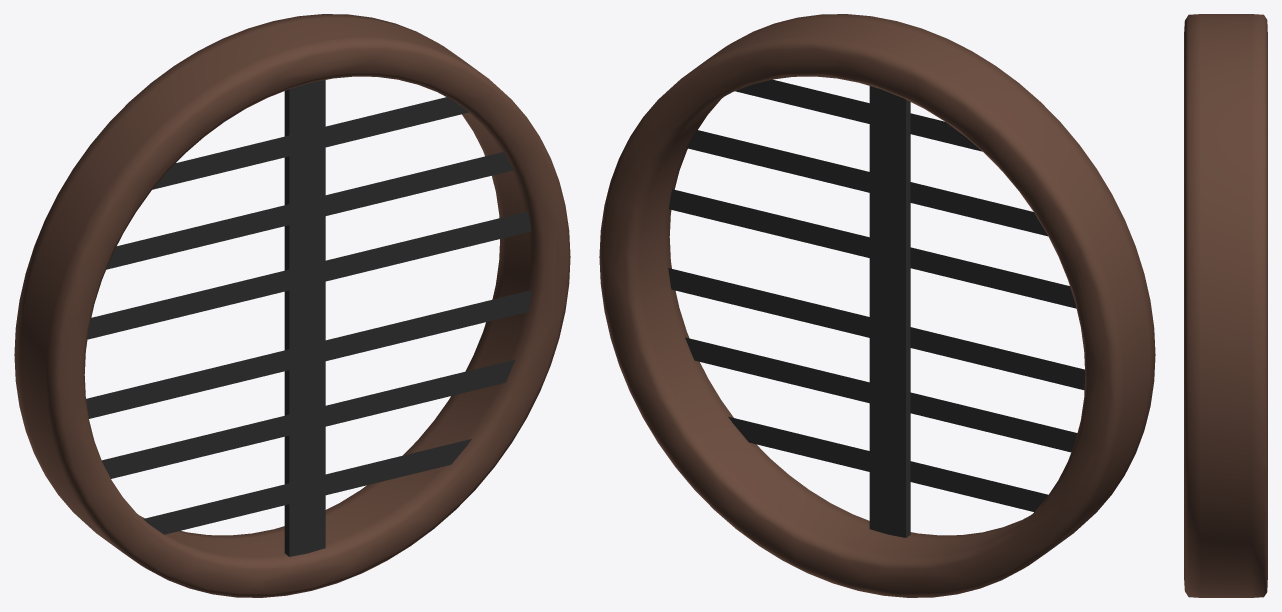
The model's file is Finestra2.fbx.
3 views of the same model, side by side, from view 1: azimuth 30°, elevation 25°; view 2: azimuth 150°, elevation 25°; view 3: azimuth 270°, elevation 25° (orthographic). The views are drawn at different scales.
Parts seen in each view (by area): view 1: marco, Persiana horizontal, persiana vertical; view 2: marco, Persiana horizontal, persiana vertical; view 3: marco.
Boxes of the visible parts, x1,y1,x2,y2 form: marco: [14, 14, 570, 597]; Persiana horizontal: [86, 97, 531, 534]; persiana vertical: [284, 80, 325, 556]; marco: [599, 14, 1155, 597]; Persiana horizontal: [668, 79, 1085, 511]; persiana vertical: [869, 86, 910, 537]; marco: [1184, 14, 1267, 597].
Size of the model in its own units: 596 by 596 by 85.41.
